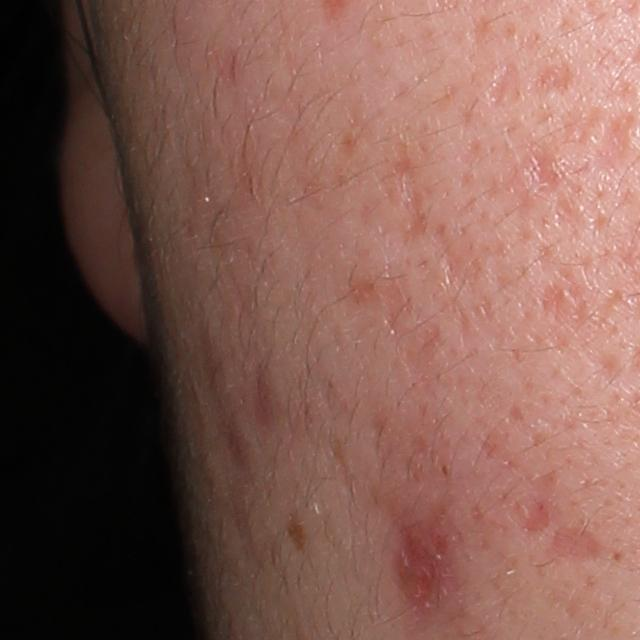atrophic_scar: (401, 509, 452, 624), (429, 227, 484, 324), (496, 120, 556, 208), (393, 142, 427, 246), (592, 116, 633, 173), (481, 61, 522, 110), (563, 99, 600, 148), (548, 525, 594, 562), (529, 64, 566, 101)
nevus: (289, 502, 310, 552)
